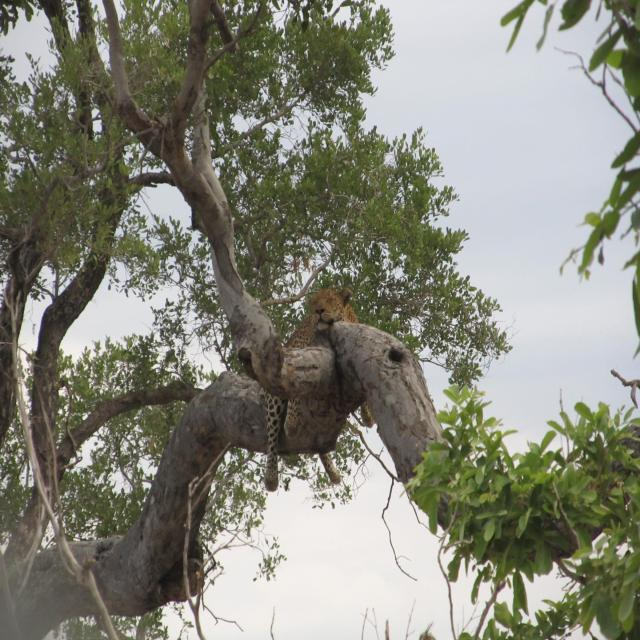Leopard: (223, 272, 410, 506)
